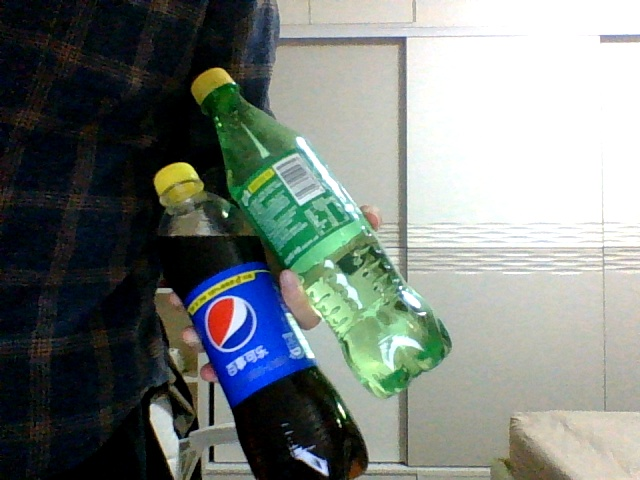Cola: (154, 161, 370, 477)
Sprite: (190, 68, 451, 398)
